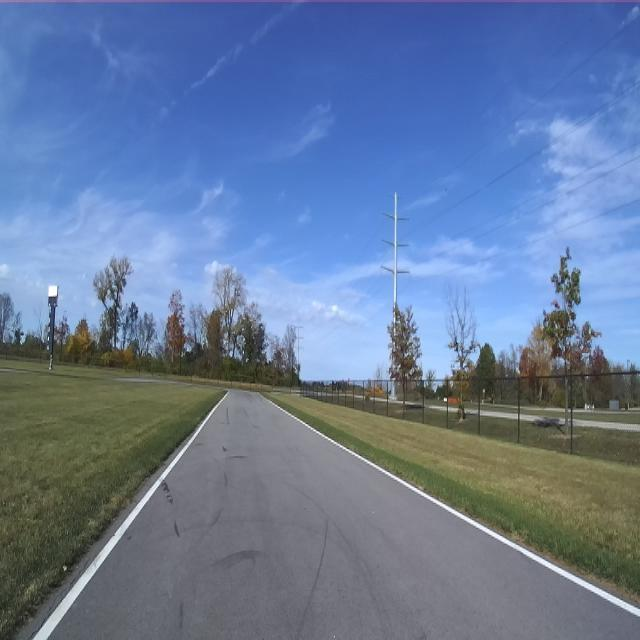white-line: (272, 401, 640, 617), (28, 390, 228, 639)
